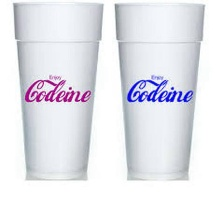paper_cup: (109, 0, 209, 180), (8, 0, 107, 180)
